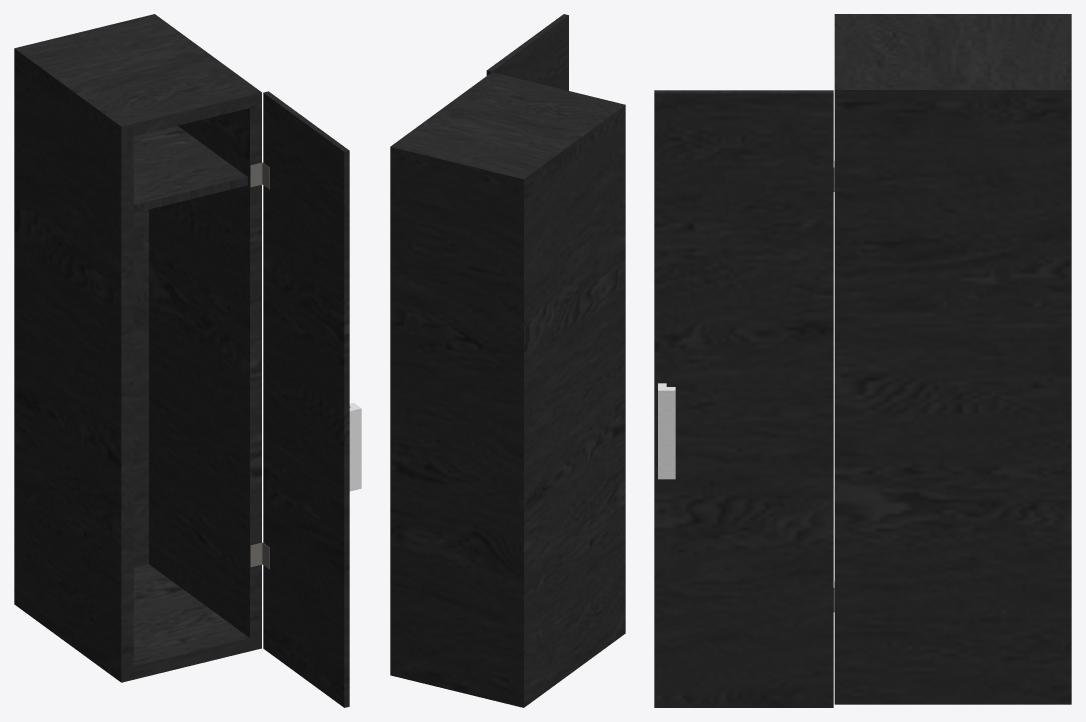
Rendered from Closet30.fbx.
3 renders of one model, left to right at view 1: azimuth 30°, elevation 25°; view 2: azimuth 150°, elevation 25°; view 3: azimuth 270°, elevation 25°, orthographic. The views are drawn at different scales.
Visible parts, largest first — view 1: Closet30, Closet30Door; view 2: Closet30, Closet30Door; view 3: Closet30, Closet30Door.
Part boxes in pixels (<box>): Closet30: <box>14,14,262,682</box>; Closet30Door: <box>262,91,361,707</box>; Closet30: <box>390,72,625,707</box>; Closet30Door: <box>486,14,568,90</box>; Closet30: <box>833,14,1071,704</box>; Closet30Door: <box>654,90,834,707</box>.
Bounding box in the file's own units: 76.86 × 254 × 157.
